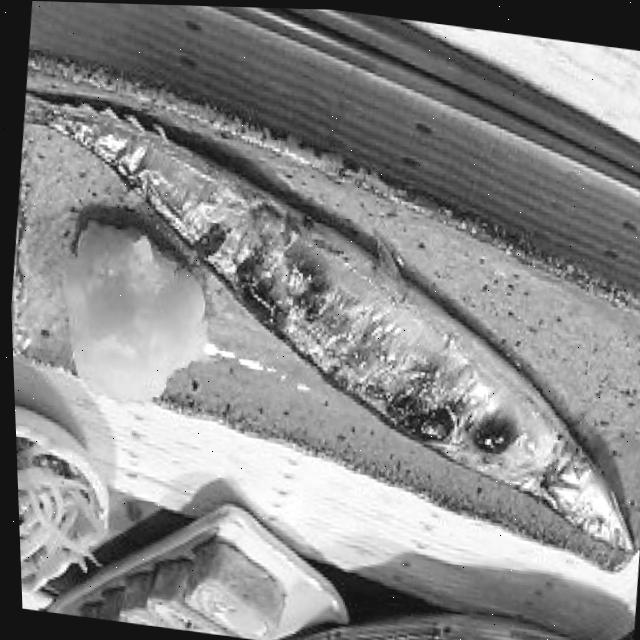熟制海鲜: (2, 72, 640, 543)
